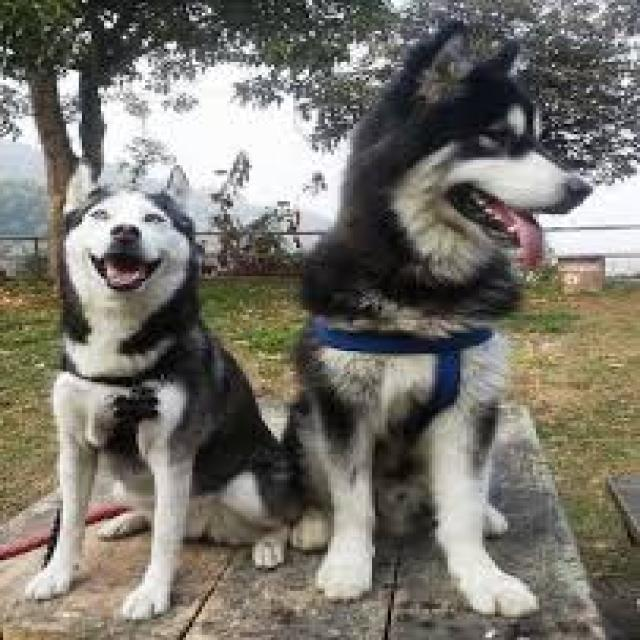ALASKAN_MALAMUTE: (300, 12, 614, 629), (8, 127, 276, 629)
